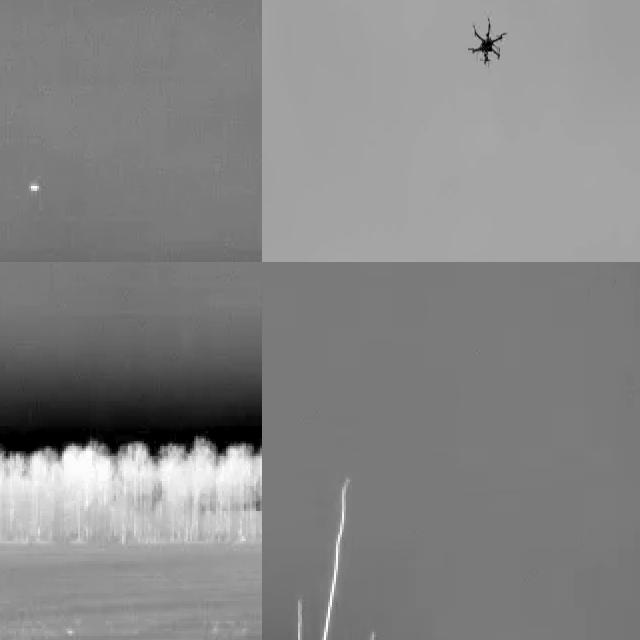1: (25, 176, 49, 201)
drone: (467, 18, 508, 71)
